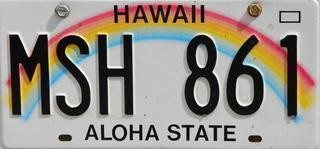placa de veiculo: (4, 1, 309, 149)
